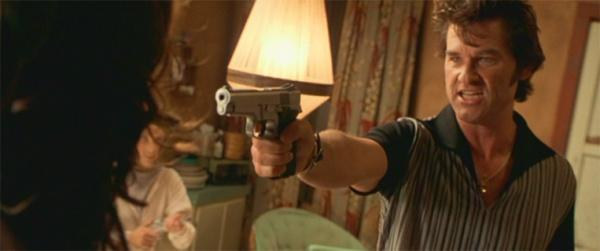Gun: (213, 87, 302, 178)
